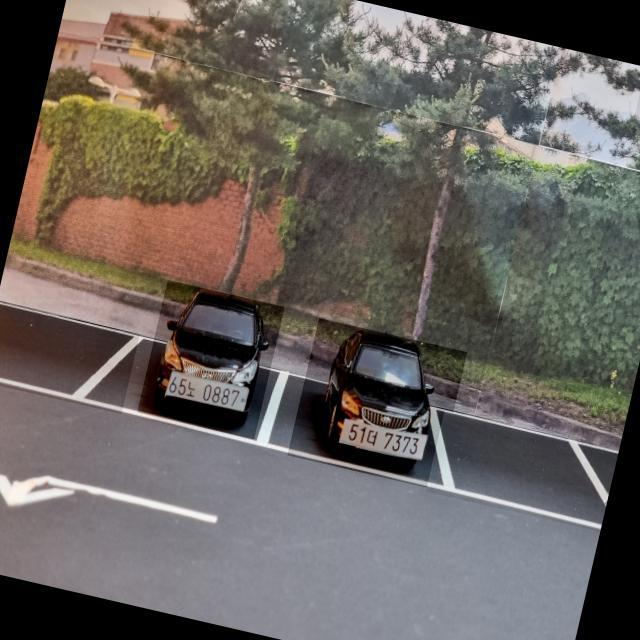empty: (426, 410, 618, 531), (0, 301, 139, 414)
occupied: (287, 318, 466, 489), (136, 280, 284, 440)
